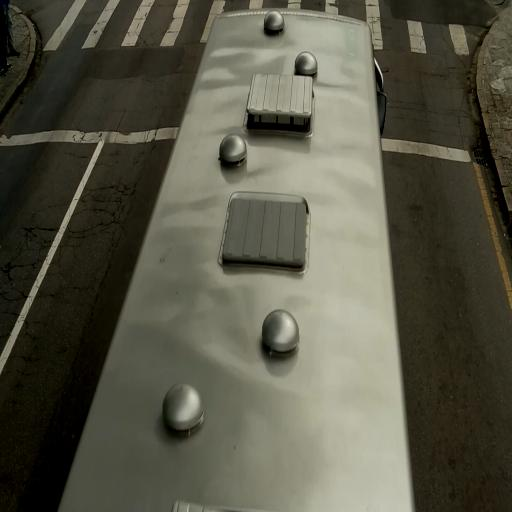others: (55, 4, 422, 512)
